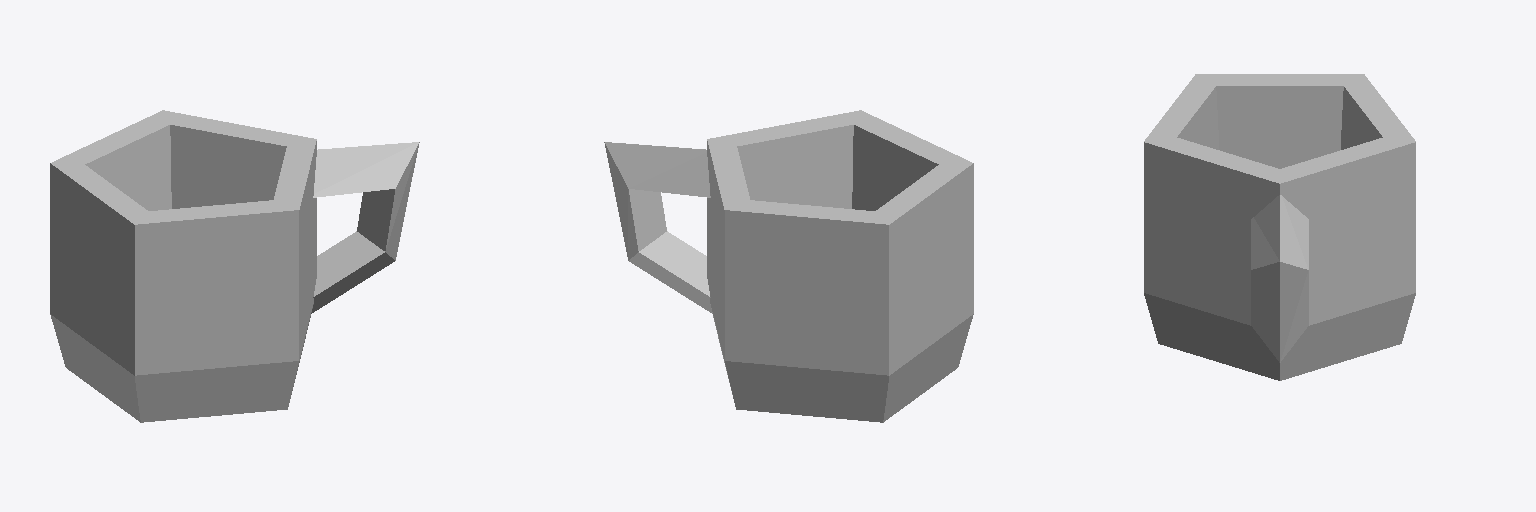
The model's file is CoffeeCup_A__2.obj.
3 views of the same model, side by side, from view 1: azimuth 30°, elevation 25°; view 2: azimuth 150°, elevation 25°; view 3: azimuth 270°, elevation 25° (orthographic).
Parts seen in each view (by area): view 1: Cylinder1, Cylinder3; view 2: Cylinder1, Cylinder3; view 3: Cylinder1, Cylinder3.
Part boxes in pixels (left/top/right/bottom): Cylinder1: left=50, top=110, right=316, bottom=422; Cylinder3: left=311, top=142, right=419, bottom=313; Cylinder1: left=707, top=110, right=973, bottom=422; Cylinder3: left=604, top=142, right=712, bottom=313; Cylinder1: left=1144, top=74, right=1415, bottom=380; Cylinder3: left=1251, top=195, right=1308, bottom=362.
Size of the model in its own units: 2.63 by 1.57 by 1.9.